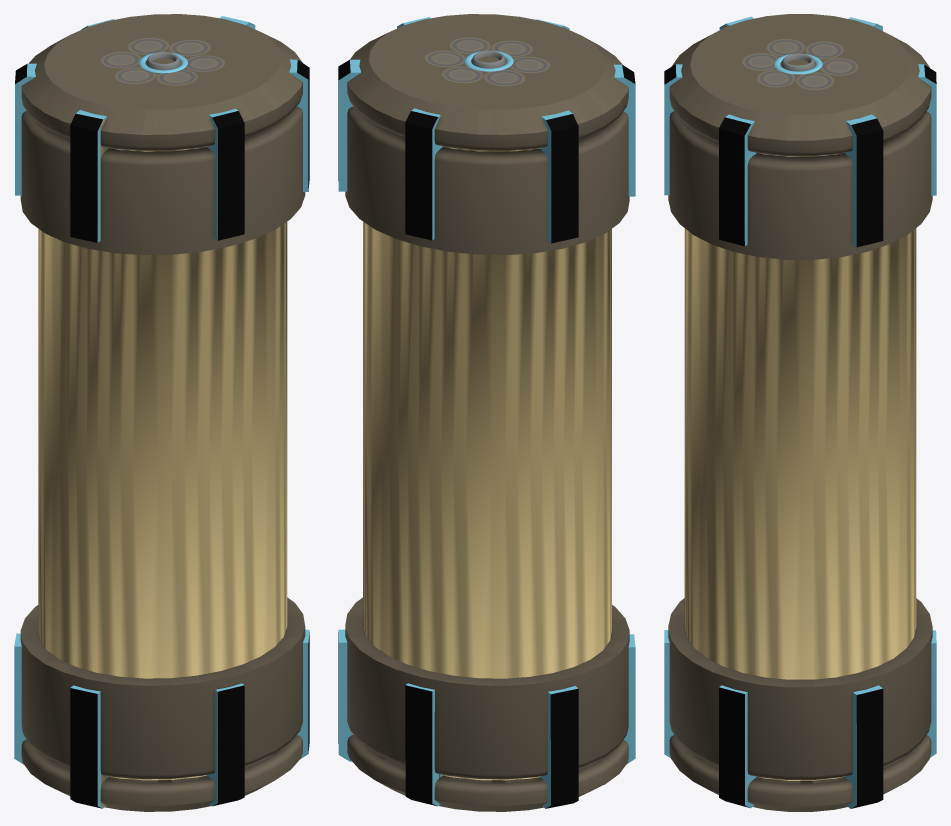
The model's file is powercell full.fbx.
3 renders of one model, left to right at view 1: azimuth 30°, elevation 25°; view 2: azimuth 150°, elevation 25°; view 3: azimuth 270°, elevation 25°, orthographic.
Parts seen in each view (by area): view 1: EnergyCell_2.001, Middele powercell, Cube.005, Cube.003, Cube.011, Cube.010, Cube.004, Cube.002, Cube.001, Cube.009; view 2: Middele powercell, EnergyCell_2.001, Cube.004, Cube.006, Cube.001, Cube.007, Cube, Cube.008, Cube.005, Cube.011; view 3: EnergyCell_2.001, Middele powercell, Cube, Cube.002, Cube.008, Cube.009, Cube.003, Cube.006, Cube.010, Cube.007.
Part boxes in pixels (<box>): EnergyCell_2.001: <box>20,14,305,811</box>; Middele powercell: <box>38,229,58,651</box>; Cube.005: <box>70,110,107,242</box>; Cube.003: <box>207,108,244,240</box>; Cube.011: <box>70,685,107,808</box>; Cube.010: <box>207,683,244,806</box>; Cube.004: <box>15,63,36,195</box>; Cube.002: <box>289,59,309,191</box>; Cube.001: <box>14,633,26,764</box>; Cube.009: <box>297,629,309,758</box>; Middele powercell: <box>363,146,602,780</box>; EnergyCell_2.001: <box>345,14,629,811</box>; Cube.004: <box>541,110,578,243</box>; Cube.006: <box>405,108,442,240</box>; Cube.001: <box>541,686,578,808</box>; Cube.007: <box>405,683,442,806</box>; Cube: <box>338,59,360,191</box>; Cube.008: <box>338,629,353,761</box>; Cube.005: <box>614,64,635,196</box>; Cube.011: <box>623,634,635,764</box>; EnergyCell_2.001: <box>668,14,932,811</box>; Middele powercell: <box>788,152,916,780</box>; Cube: <box>845,114,883,247</box>; Cube.002: <box>719,114,756,246</box>; Cube.008: <box>845,685,883,808</box>; Cube.009: <box>719,685,756,808</box>; Cube.003: <box>664,64,682,195</box>; Cube.006: <box>918,64,936,195</box>; Cube.010: <box>664,630,673,757</box>; Cube.007: <box>927,630,936,757</box>.
Size of the model in its own units: 30.82 by 83.87 by 29.27.
Materials: 29 (2 with a texture image).
